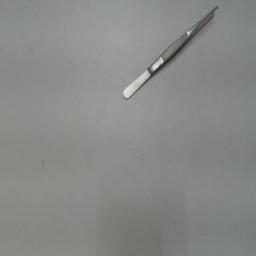Gillies Toothed Dissector: (120, 5, 222, 105)
